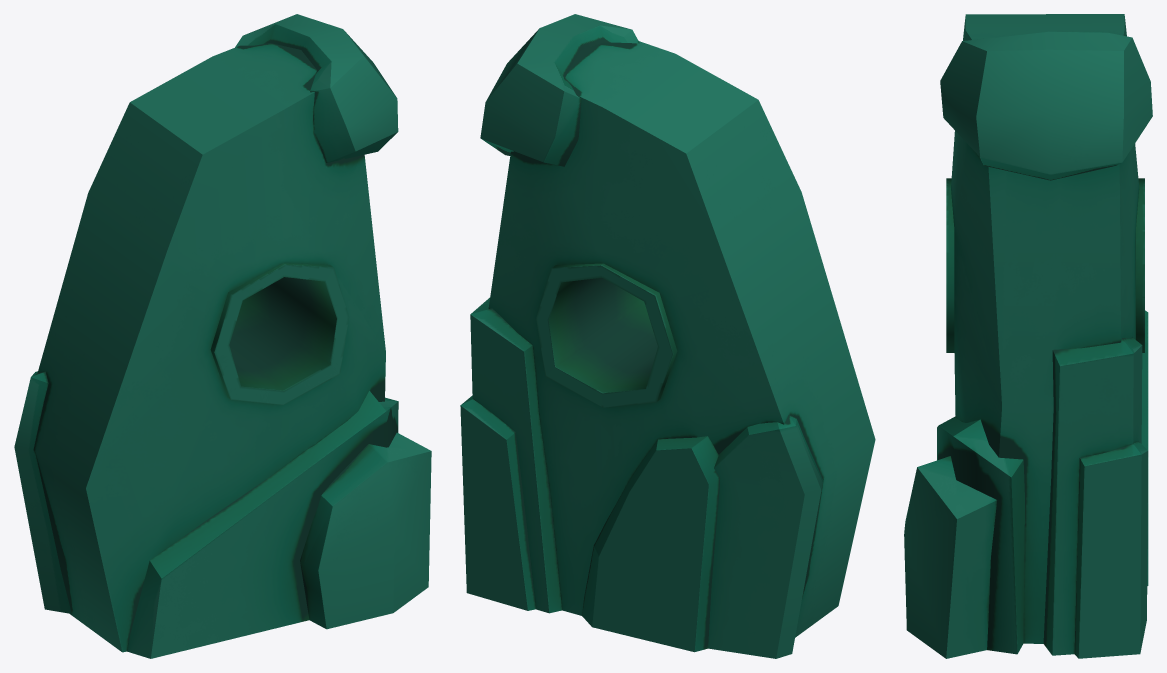
The model's file is spiritRock.fbx.
The picture shows the model from 3 angles, left to right: view 1: azimuth 30°, elevation 25°; view 2: azimuth 150°, elevation 25°; view 3: azimuth 270°, elevation 25°; orthographic projection. The views are drawn at different scales.
Parts seen in each view (by area): view 1: spiritRock_geo; view 2: spiritRock_geo; view 3: spiritRock_geo.
Part boxes in pixels (x1=…): spiritRock_geo: x1=14, y1=14, x2=431, y2=658; spiritRock_geo: x1=460, y1=14, x2=875, y2=658; spiritRock_geo: x1=904, y1=14, x2=1152, y2=658.
Bounding box in the file's own units: 128 × 187 × 71.59.
